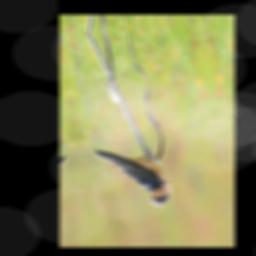Swallow: (86, 134, 175, 221)
